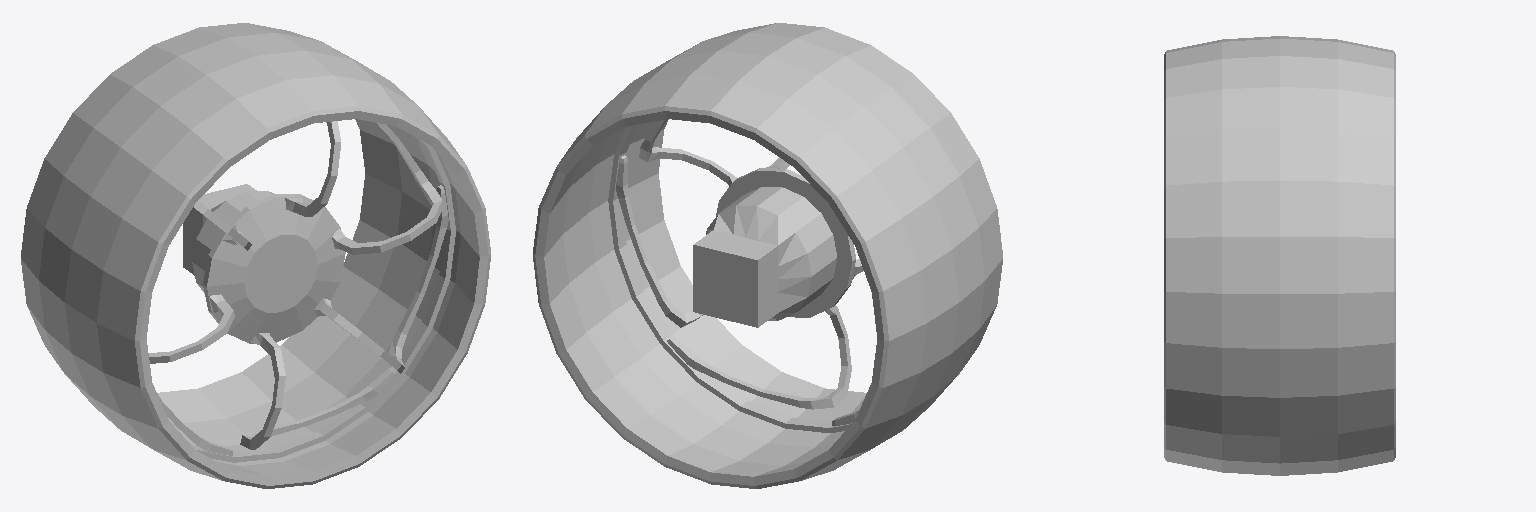
File: spacewheel(G).obj
3 renders of one model, left to right at view 1: azimuth 30°, elevation 25°; view 2: azimuth 150°, elevation 25°; view 3: azimuth 270°, elevation 25°, orthographic.
Parts seen in each view (by area): view 1: wheel_01_L_Cylinder.015; view 2: wheel_01_L_Cylinder.015; view 3: wheel_01_L_Cylinder.015.
Boxes of the visible parts, x1=… form: wheel_01_L_Cylinder.015: x1=21, y1=23, x2=490, y2=488; wheel_01_L_Cylinder.015: x1=533, y1=23, x2=1002, y2=488; wheel_01_L_Cylinder.015: x1=1164, y1=36, x2=1395, y2=475.
Size of the model in its own units: 19 by 19 by 10.